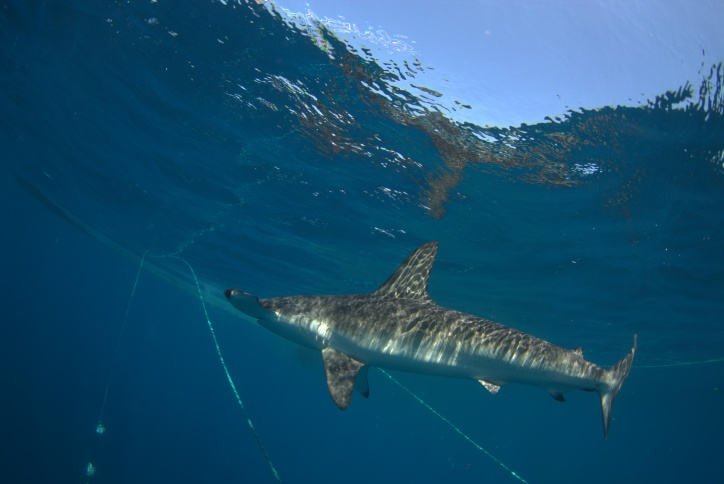Hammer: (211, 220, 647, 436)
